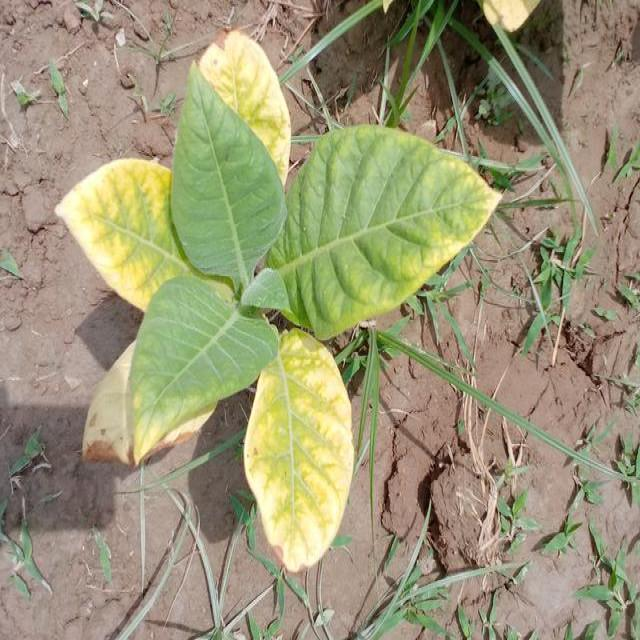crop: (67, 32, 498, 557)
